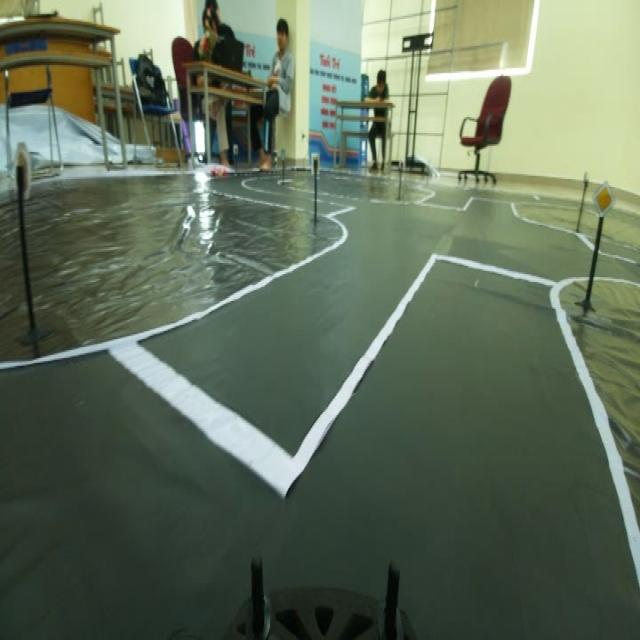priority: (591, 179, 617, 220)
